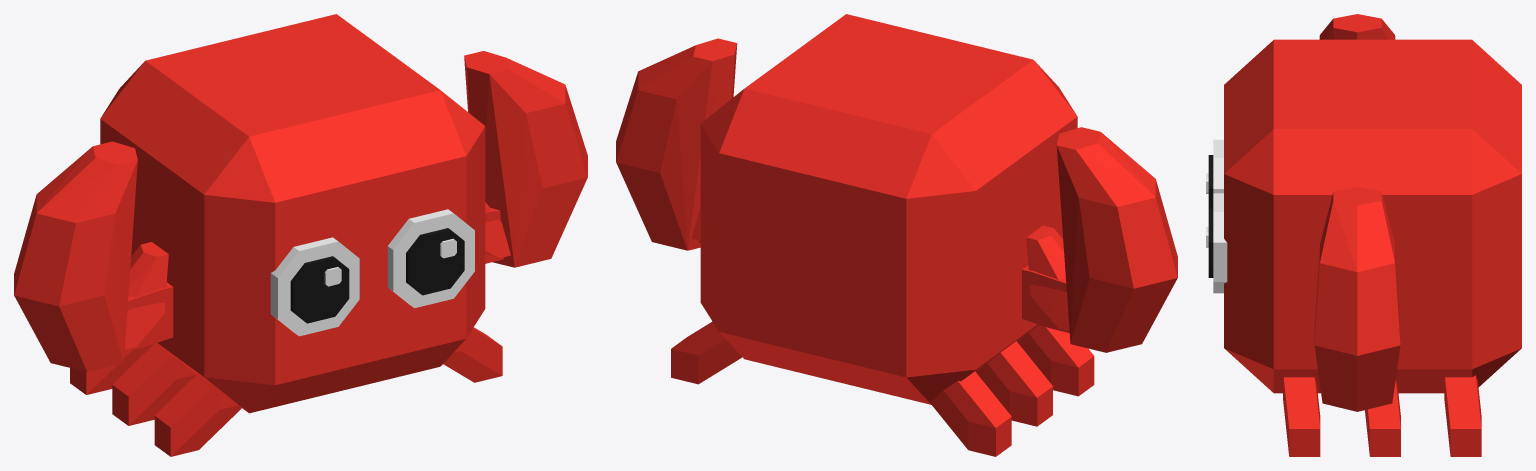
Rendered from Crab.fbx.
3 views of the same model, side by side, from view 1: azimuth 30°, elevation 25°; view 2: azimuth 150°, elevation 25°; view 3: azimuth 270°, elevation 25° (orthographic). The views are drawn at different scales.
Visible parts, largest first — view 1: Crab, Crab_Legs, Crab_Eyes, Crab_Pupils; view 2: Crab, Crab_Legs; view 3: Crab, Crab_Legs, Crab_Eyes, Crab_Pupils.
Boxes of the visible parts, x1,y1,x2,y2 form: Crab: [100, 14, 485, 413]; Crab_Legs: [14, 51, 587, 456]; Crab_Eyes: [270, 209, 474, 336]; Crab_Pupils: [290, 228, 464, 323]; Crab: [700, 14, 1077, 404]; Crab_Legs: [616, 38, 1177, 456]; Crab: [1224, 39, 1521, 393]; Crab_Legs: [1283, 14, 1481, 456]; Crab_Eyes: [1206, 139, 1227, 293]; Crab_Pupils: [1208, 155, 1213, 277].
Bounding box in the file's own units: 4.08 × 2.1 × 2.04.
